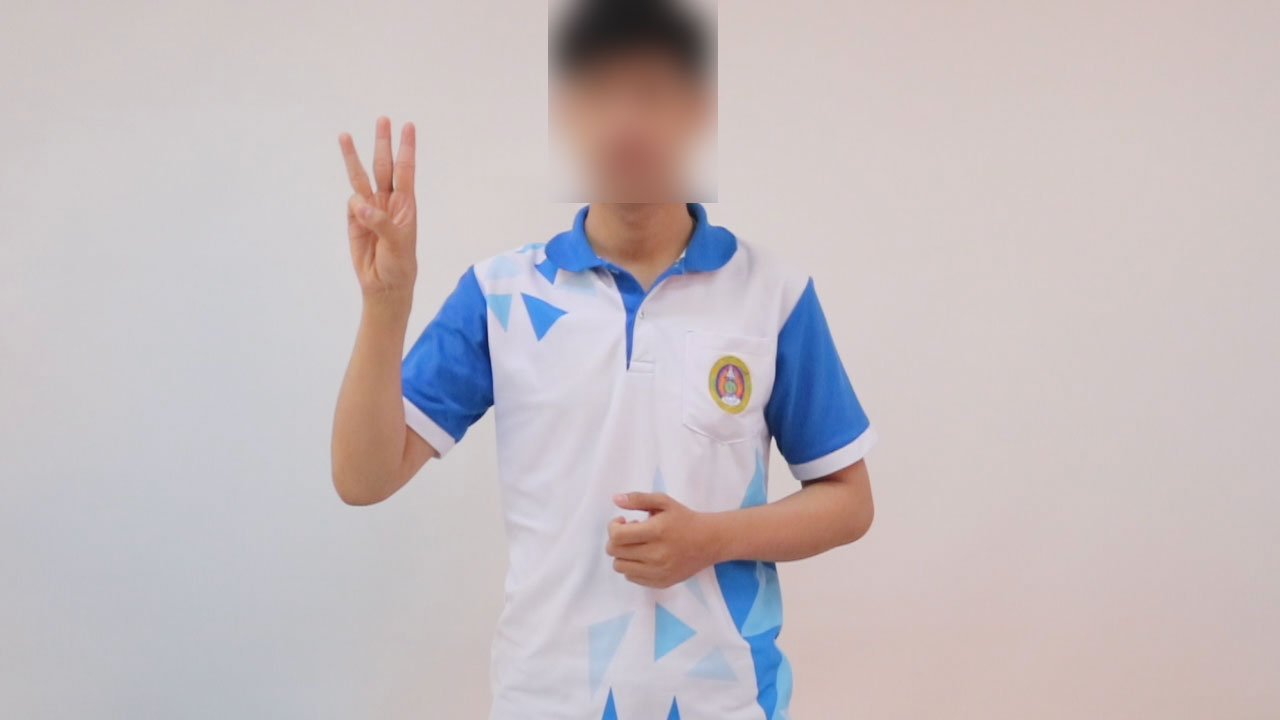wor: (330, 110, 434, 306)
